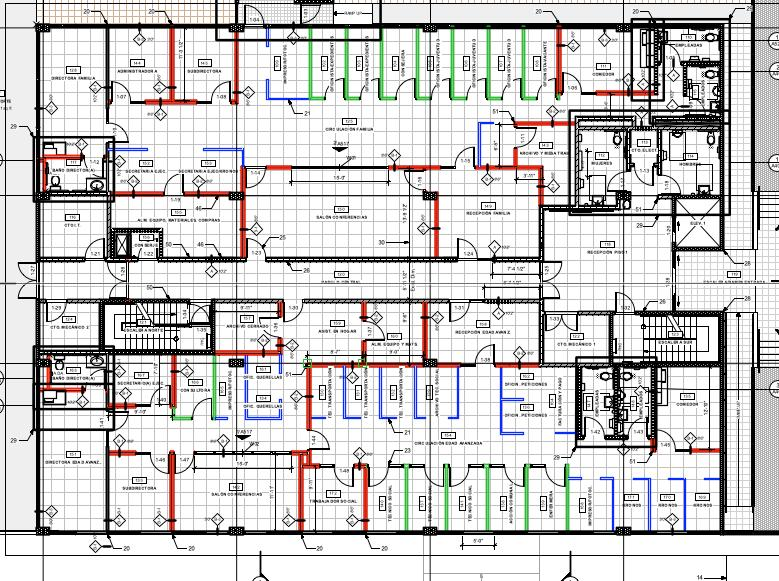room: (242, 167, 436, 259), (171, 452, 302, 532), (435, 169, 540, 259), (425, 299, 541, 367), (38, 26, 108, 137), (653, 366, 722, 451), (107, 453, 172, 532), (171, 26, 236, 103), (107, 27, 171, 102), (559, 27, 631, 93), (576, 118, 629, 207), (659, 126, 723, 197), (515, 124, 570, 205), (38, 198, 109, 260), (301, 465, 365, 532), (363, 302, 424, 363), (213, 301, 280, 350), (108, 354, 172, 405), (576, 358, 616, 438), (541, 313, 611, 358), (616, 358, 653, 438), (39, 301, 100, 349), (446, 465, 488, 533), (526, 465, 568, 532), (406, 464, 446, 532), (487, 465, 527, 532), (366, 465, 406, 532), (173, 355, 215, 418), (452, 27, 488, 98), (381, 27, 417, 98), (310, 27, 346, 98), (417, 26, 452, 98), (347, 25, 381, 99), (567, 478, 613, 532), (489, 27, 523, 99), (524, 26, 557, 100), (613, 479, 650, 532), (649, 478, 685, 532), (685, 479, 720, 532), (627, 126, 659, 166)
